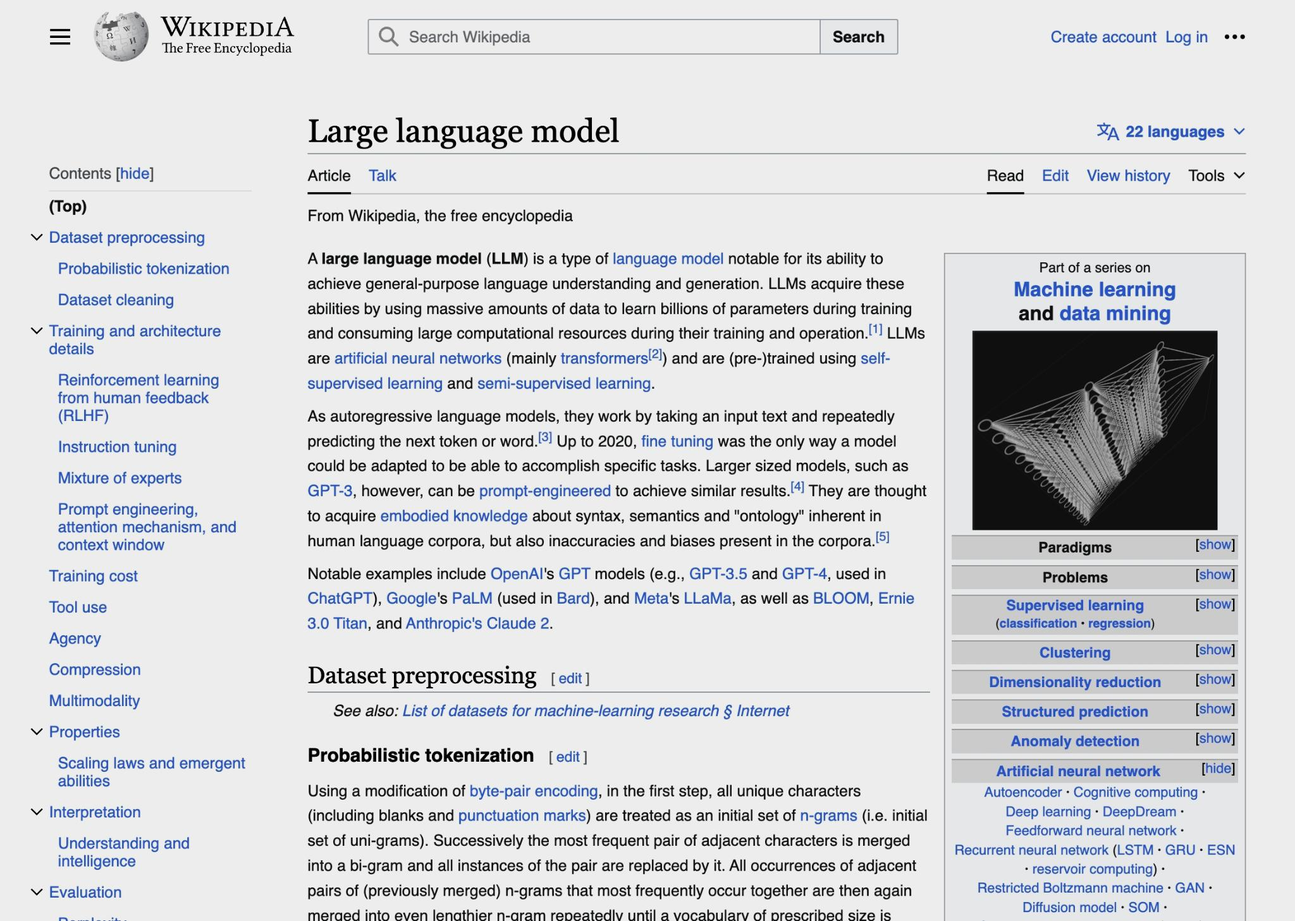webelement: (307, 194, 1245, 921), (23, 99, 266, 921), (307, 245, 1245, 394), (307, 402, 1245, 551), (307, 778, 1245, 921), (307, 561, 1245, 635), (971, 330, 1216, 529), (307, 589, 914, 630), (307, 349, 889, 391), (307, 698, 1245, 722), (367, 18, 819, 53), (93, 8, 340, 63), (57, 363, 250, 430), (57, 493, 250, 559), (306, 111, 618, 148), (48, 314, 250, 363), (57, 747, 250, 796), (57, 827, 250, 876), (976, 153, 1178, 192), (401, 701, 788, 719), (1050, 18, 1244, 53), (48, 189, 250, 220), (48, 221, 250, 252), (48, 559, 250, 590), (48, 591, 250, 622), (48, 622, 250, 653), (48, 653, 250, 684), (48, 684, 250, 715), (48, 715, 250, 746), (48, 876, 250, 907), (1083, 113, 1258, 148), (48, 796, 250, 826), (57, 252, 250, 283), (57, 283, 250, 314), (57, 430, 250, 461), (57, 461, 250, 492), (306, 661, 535, 687), (307, 743, 533, 765), (971, 420, 1216, 437), (298, 153, 404, 192), (1013, 277, 1176, 301), (976, 879, 1162, 896), (1086, 153, 1169, 191), (333, 349, 500, 367), (477, 374, 651, 391), (989, 673, 1161, 690), (1004, 822, 1175, 839), (995, 762, 1159, 779), (818, 18, 897, 53), (57, 907, 250, 921), (160, 16, 293, 36), (953, 841, 1107, 858), (1059, 301, 1170, 324), (379, 506, 526, 523), (405, 614, 547, 631), (478, 481, 609, 499), (1001, 703, 1148, 719), (1005, 596, 1143, 613), (469, 781, 597, 799), (457, 805, 584, 823), (994, 616, 1153, 630), (1187, 153, 1245, 190), (1072, 783, 1197, 800), (1010, 732, 1139, 748), (1031, 860, 1151, 877), (612, 248, 723, 266), (162, 42, 292, 56), (1050, 27, 1156, 44), (1125, 121, 1224, 139), (307, 153, 350, 194), (1022, 898, 1116, 915), (559, 349, 647, 367), (985, 153, 1022, 194), (1086, 166, 1169, 184), (1004, 802, 1090, 819), (983, 783, 1061, 800), (641, 431, 713, 449), (1101, 802, 1174, 819), (1216, 18, 1251, 53), (1039, 643, 1110, 659), (999, 616, 1077, 630), (307, 589, 371, 606), (368, 153, 396, 191), (688, 564, 745, 582), (800, 805, 856, 823), (1041, 153, 1067, 191), (813, 589, 869, 606), (489, 564, 541, 582), (1087, 616, 1149, 630), (385, 589, 435, 606), (683, 589, 731, 606), (307, 481, 351, 499), (782, 564, 826, 582), (307, 166, 350, 184), (48, 18, 70, 53), (1165, 27, 1206, 44), (451, 589, 492, 606), (985, 166, 1022, 184), (1187, 166, 1224, 184), (115, 164, 152, 181), (1115, 841, 1152, 858), (557, 564, 590, 582), (633, 589, 667, 606), (23, 222, 47, 246), (23, 315, 47, 339), (23, 717, 47, 741), (23, 797, 47, 821), (23, 877, 47, 901), (556, 589, 589, 606), (1198, 565, 1230, 582), (1198, 669, 1230, 686), (1198, 730, 1230, 747), (978, 918, 1155, 921), (1128, 898, 1159, 915), (1198, 536, 1230, 552), (1198, 595, 1230, 611), (1198, 641, 1230, 657), (1198, 700, 1230, 716), (1164, 841, 1194, 858), (1174, 879, 1204, 896), (368, 166, 396, 184), (1206, 841, 1234, 858), (1041, 166, 1067, 184), (1205, 759, 1231, 775), (557, 669, 581, 686), (555, 748, 578, 764), (868, 321, 882, 335), (648, 346, 661, 360), (537, 429, 550, 443), (875, 528, 888, 542), (789, 479, 802, 492), (1162, 918, 1198, 921), (549, 669, 554, 686), (585, 669, 590, 686), (547, 748, 552, 764), (583, 748, 587, 764)
